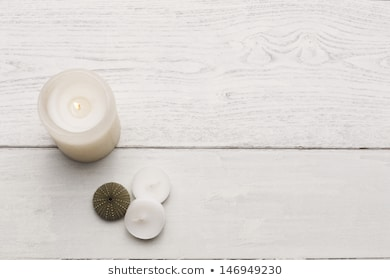Fire: (70, 100, 83, 110)
